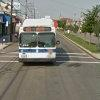Bus: (13, 14, 64, 69)
